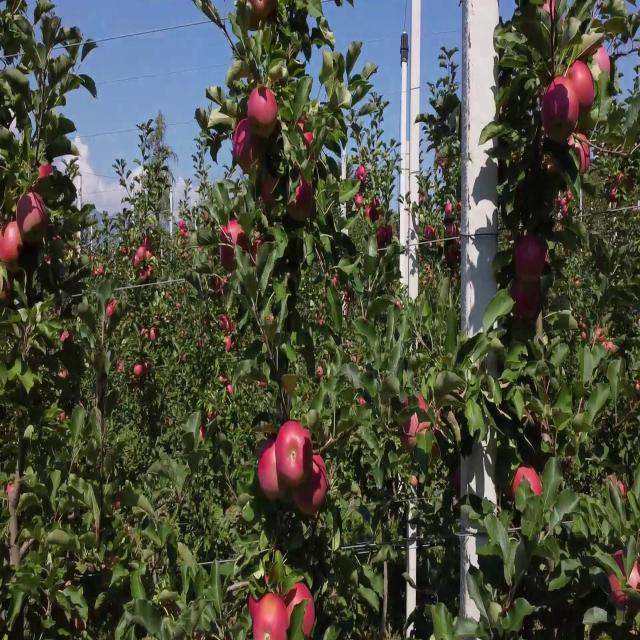apple: (540, 78, 579, 142), (276, 419, 312, 484), (296, 455, 328, 519), (608, 554, 640, 610), (284, 170, 315, 226), (516, 234, 550, 283), (248, 85, 280, 137), (288, 583, 316, 639), (252, 597, 289, 639), (512, 277, 543, 322), (16, 191, 47, 236), (568, 63, 596, 112), (232, 120, 258, 171), (260, 447, 283, 501), (512, 469, 544, 501), (4, 220, 24, 263), (572, 135, 592, 176), (260, 170, 280, 210), (400, 412, 419, 453), (296, 113, 314, 149), (544, 0, 564, 28), (252, 0, 276, 23), (228, 220, 247, 247), (608, 476, 628, 500), (220, 248, 237, 274), (36, 163, 52, 190), (596, 49, 612, 75), (236, 227, 251, 254), (36, 163, 52, 185), (548, 156, 562, 180), (252, 241, 264, 268), (316, 355, 328, 382), (4, 483, 20, 503), (248, 597, 260, 622), (368, 199, 381, 220), (108, 298, 120, 320), (92, 255, 104, 277), (4, 277, 13, 306), (596, 327, 607, 348), (144, 327, 158, 343), (144, 234, 155, 254), (580, 319, 589, 343), (356, 170, 368, 187), (240, 234, 250, 254), (376, 227, 385, 249), (60, 334, 75, 345), (328, 277, 339, 292), (136, 362, 144, 382), (60, 412, 72, 425), (356, 191, 364, 208), (76, 618, 84, 633), (428, 227, 436, 242), (60, 369, 69, 382), (388, 227, 395, 242), (116, 497, 123, 512), (432, 447, 440, 460), (412, 476, 419, 489), (404, 398, 411, 411), (360, 398, 368, 407)
